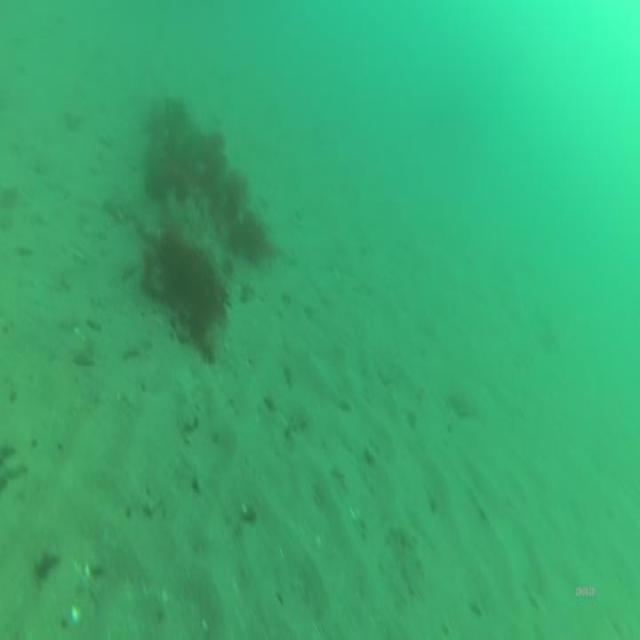waterweeds: (150, 96, 267, 253), (152, 231, 229, 365)
